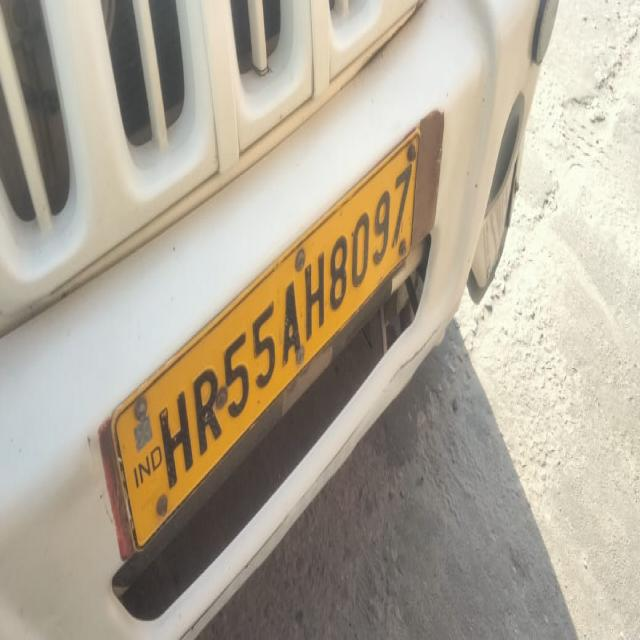License-plate: (130, 127, 421, 535)
